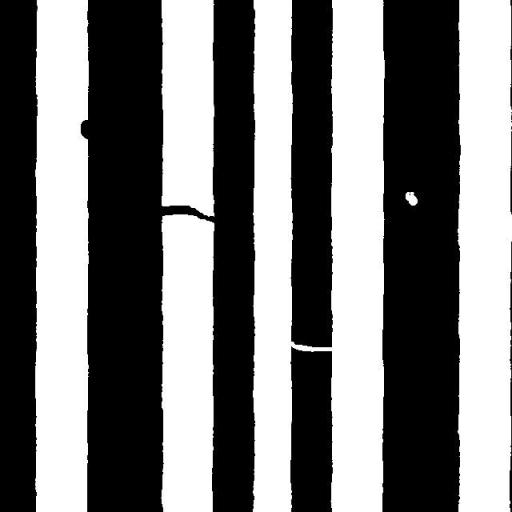open: (270, 330, 342, 360)
pin-hole: (398, 184, 424, 213)
short: (150, 198, 225, 230)
spur: (73, 112, 102, 146)
